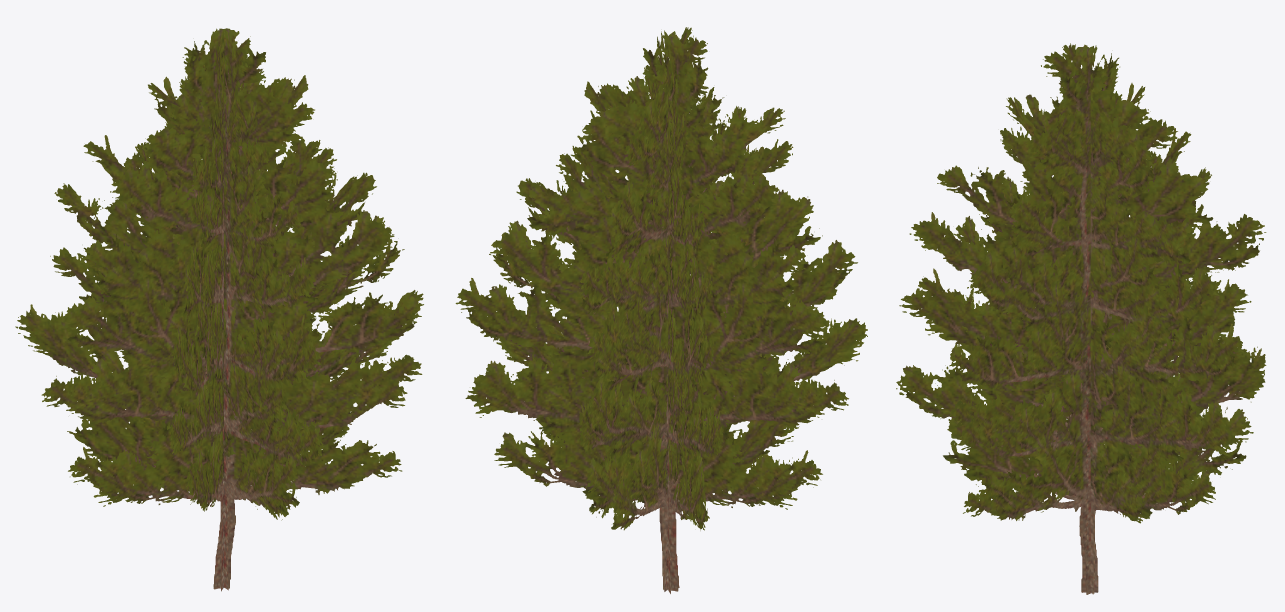
The model's file is SM_SmallPine_01.fbx.
3 views of the same model, side by side, from view 1: azimuth 30°, elevation 25°; view 2: azimuth 150°, elevation 25°; view 3: azimuth 270°, elevation 25° (orthographic). The views are drawn at different scales.
Parts seen in each view (by area): view 1: SM_SmallPine_01_LOD3; view 2: SM_SmallPine_01_LOD3; view 3: SM_SmallPine_01_LOD3.
Part boxes in pixels (x1,y1,x2,y2): SM_SmallPine_01_LOD3: (15,28,423,591); SM_SmallPine_01_LOD3: (455,27,867,593); SM_SmallPine_01_LOD3: (896,43,1266,594).
Size of the model in its own units: 336 by 466 by 289.
Materials: 1 (1 with a texture image).
